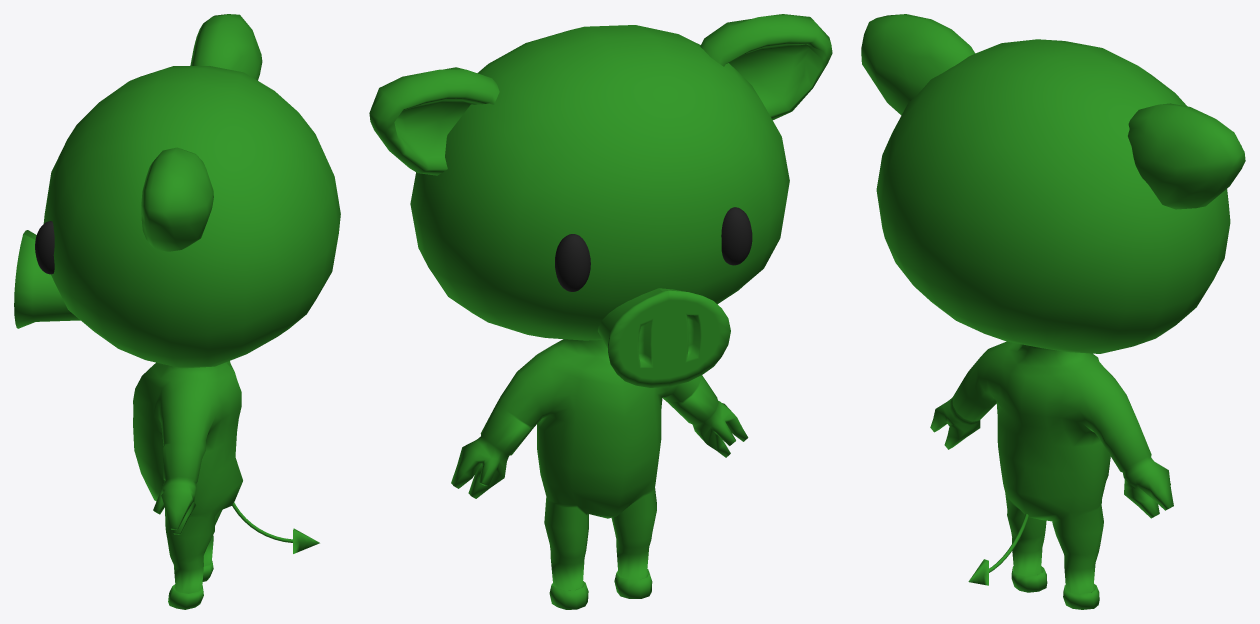
The model's file is Porcux.fbx.
3 renders of one model, left to right at view 1: azimuth 30°, elevation 25°; view 2: azimuth 150°, elevation 25°; view 3: azimuth 270°, elevation 25°, orthographic. The views are drawn at different scales.
Parts seen in each view (by area): view 1: Head&Body.005; view 2: Head&Body.005; view 3: Head&Body.005.
Part boxes in pixels (left/top/right/bottom): Head&Body.005: left=14, top=14, right=340, bottom=609; Head&Body.005: left=369, top=14, right=832, bottom=609; Head&Body.005: left=861, top=14, right=1245, bottom=609.
Size of the model in its own units: 64.52 by 109 by 70.34.
